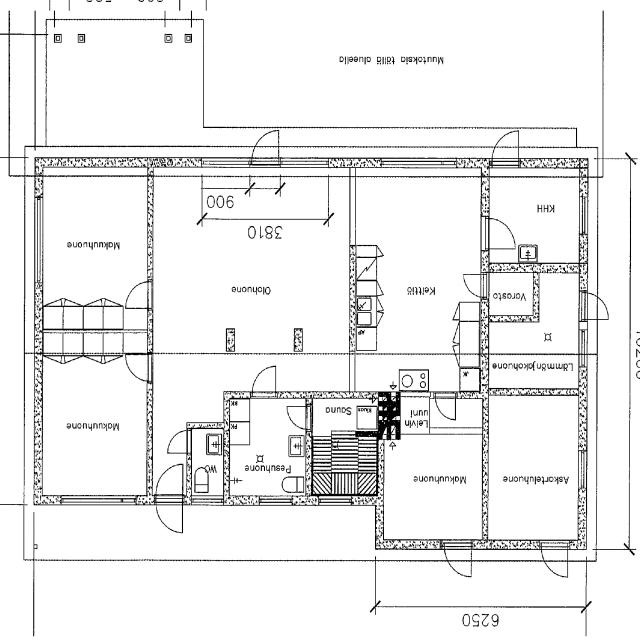door: (540, 539, 568, 580), (251, 126, 279, 167), (445, 539, 471, 580), (156, 466, 182, 506), (492, 127, 518, 167), (156, 496, 182, 535), (481, 218, 514, 248), (578, 292, 610, 320), (252, 364, 276, 398), (123, 281, 152, 307), (124, 355, 152, 381), (435, 391, 456, 420), (461, 275, 488, 297), (167, 430, 191, 453), (286, 407, 311, 429)
